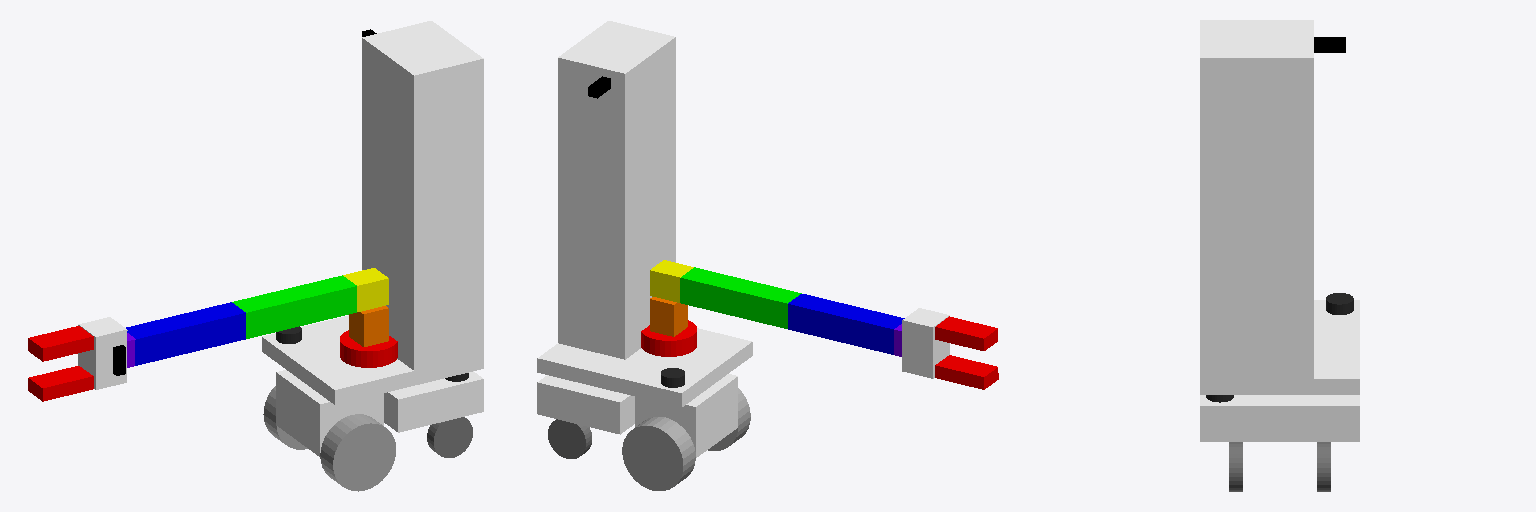
--- Render facts (derived) ---
3 views of the same robot in one strip: view 1: azimuth 30°, elevation 25°; view 2: azimuth 150°, elevation 25°; view 3: azimuth 270°, elevation 25° (orthographic).
Model mbse with 25 links and 24 joints (7 revolute, 4 continuous, 3 prismatic, 10 fixed), rooted at mobilebaseI, posed all joints at 0.
Links seen in each view (by area): view 1: Torsol, mobilebaseIV, Revlink3, Revlink4, Wheel_Left, mobilebaseI, mobilebaseII, Hand, FingerLeft, FingerRight, CasterWheel_Left, LinearJoint (+3 smaller); view 2: Torsol, mobilebaseIV, Revlink3, Revlink4, Wheel_Right, mobilebaseII, mobilebaseI, Hand, FingerRight, FingerLeft, CasterWheel_Right, LinearJoint (+3 smaller); view 3: Torsol, mobilebaseII, mobilebaseIV, CasterWheel_Left, CasterWheel_Right, Lidar_Front.
Link boxes in pixels (x1,y1,x2,y2): Torsol: (362,21,483,370); mobilebaseIV: (262,315,483,404); Revlink3: (232,275,356,338); Revlink4: (126,302,245,365); Wheel_Left: (320,414,395,491); mobilebaseI: (276,370,383,456); mobilebaseII: (384,371,483,432); Hand: (78,317,127,389); FingerLeft: (28,326,93,361); FingerRight: (28,366,93,401); CasterWheel_Left: (427,417,472,457); LinearJoint: (340,330,397,367); Torsol: (558,21,675,359); mobilebaseIV: (537,328,752,407); Revlink3: (680,267,801,328); Revlink4: (788,294,904,354); Wheel_Right: (622,417,695,490); mobilebaseII: (537,375,634,434); mobilebaseI: (635,374,737,457); Hand: (902,308,949,378); FingerRight: (935,355,998,389); FingerLeft: (935,316,997,350); CasterWheel_Right: (548,419,591,458); LinearJoint: (641,320,696,356); Torsol: (1200,20,1313,378); mobilebaseII: (1200,395,1359,441); mobilebaseIV: (1200,300,1359,394); CasterWheel_Left: (1229,442,1242,491); CasterWheel_Right: (1317,442,1330,491); Lidar_Front: (1326,293,1353,314).
Size in the robot's own frame: 1.34 by 0.4 by 1.22 metres.
Geometry: primitives only (box / cylinder / sphere), no mesh files.

robot.urdf — mbse:
<?xml version="1.0" encoding="UTF-8"?>
<!-- <?xml version="1.0"?> -->
<robot name="mbse">
    <link name="mobilebaseI">
        <visual name="mobilebaseI">
            <origin xyz="0.0 0.0 0.080" rpy="0.0 0.0 0.0" />
            <geometry name="mobilebaseI">
                <box size="0.200 0.240 0.160" />
            </geometry>
            <material name="white">
                <color rgba="1.0 1.0 1.0 1.0" />
            </material>
        </visual>
        <inertial>
            <mass value="2.0" />
            <inertia ixx="5.0" ixy="0.0" ixz="0.0" iyy="7.0" iyz="0.0" izz="6.0" />
        </inertial>
        <collision>
            <origin xyz="0.0 0.0 0.080" rpy="0.0 0.0 0.0" />
            <geometry name="mobilebaseI">
                <box size="0.200 0.240 0.160" />
            </geometry>
        </collision>
    </link>
    <link name="mobilebaseII">
        <visual name="mobilebaseII">
            <origin xyz="0.0 0.0 0.00" rpy="0.0 0.0 0.0" />
            <geometry name="mobilebaseII">
                <box size="0.270 0.400 0.100" />
            </geometry>
            <material name="white" />
        </visual>
        <inertial>
            <mass value="18.0" />
            <inertia ixx="8.0" ixy="0.0" ixz="0.0" iyy="2.0" iyz="0.0" izz="1.0" />
        </inertial>
        <collision>
            <origin xyz="0.0 0.0 0.00" rpy="0.0 0.0 0.0" />
            <geometry name="mobilebaseII">
                <box size="0.270 0.400 0.100" />
            </geometry>
        </collision>
    </link>
    <joint name="MobileBaseWheel" type="fixed">
        <origin xyz="0.235 0.0 0.110" rpy="0.0 0.0 0.0" />
        <parent link="mobilebaseI" />
        <child link="mobilebaseII" />
    </joint>
    <link name="Wheel_Right">
        <inertial>
            <mass value="1.5" />
            <inertia ixx="8.0" ixy="0.0" ixz="0.0" iyy="4.0" iyz="0.0" izz="4.0" />
        </inertial>
        <visual name="Wheel">
            <origin xyz="0.0 0.0 0.0" rpy="0.0 0.0 0.0" />
            <geometry name="wheel">
                <cylinder radius="0.100" length="0.070" />
            </geometry>
            <material name="Gray1">
                <color rgba="0.7 0.7 0.7 1.0" />
            </material>
        </visual>
        <collision>
            <origin xyz="0.0 0.0 0.0" rpy="0.0 0.0 0.0" />
            <geometry name="wheel">
                <cylinder radius="0.100" length="0.070" />
            </geometry>
        </collision>
    </link>
    <joint name="WheelR" type="continuous">
        <origin xyz="0.0 0.155 0.005" rpy="1.57 0.0 0.0" />
        <parent link="mobilebaseI" />
        <child link="Wheel_Right" />
        <axis xyz="0.0 0.0 1.0" />
        <limit effort="1000.0" velocity="10.0" />
    </joint>
    <link name="Wheel_Left">
        <inertial>
            <mass value="1.5" />
            <inertia ixx="8.0" ixy="0.0" ixz="0.0" iyy="4.0" iyz="0.0" izz="4.0" />
        </inertial>
        <visual name="Wheel">
            <origin xyz="0.0 0.0 0.0" rpy="0.0 0.0 0.0" />
            <geometry name="wheel">
                <cylinder radius="0.100" length="0.070" />
            </geometry>
            <material name="Gray1">
                <color rgba="0.7 0.7 0.7 1.0" />
            </material>
        </visual>
        <collision>
            <origin xyz="0.0 0.0 0.0" rpy="0.0 0.0 0.0" />
            <geometry name="wheel">
                <cylinder radius="0.100" length="0.070" />
            </geometry>
        </collision>
    </link>
    <joint name="WheelL" type="continuous">
        <origin xyz="0.0 -0.155 0.005" rpy="1.57 0.0 0.0" />
        <parent link="mobilebaseI" />
        <child link="Wheel_Left" />
        <axis xyz="0.0 0.0 1.0" />
        <limit effort="1000.0" velocity="10.0" />
    </joint>
    <link name="CasterCase_Left">
        <inertial>
            <mass value="0.06" />
            <inertia ixx="0.2" ixy="0.0" ixz="0.0" iyy="0.6" iyz="-0.7" izz="0.2" />
        </inertial>
        <visual name="CasterCase">
            <origin xyz="0.0 0.0 -0.005" rpy="0.0 0.0 0.0" />
            <geometry name="CasterC">
                <cylinder radius="0.025" length="0.010" />
            </geometry>
            <material name="Gray1">
                <color rgba="0.7 0.7 0.7 1.0" />
            </material>
        </visual>
        <collision>
            <origin xyz="0.0 0.0 -0.005" rpy="0.0 0.0 0.0" />
            <geometry name="CasterC">
                <cylinder radius="0.025" length="0.010" />
            </geometry>
        </collision>
    </link>
    <joint name="CasterCL" type="fixed">
        <origin xyz="0.040 -0.110 -0.05" rpy="0.0 0.0 0.0" />
        <parent link="mobilebaseII" />
        <child link="CasterCase_Left" />
        <axis xyz="0.0 0.0 1.0" />
    </joint>
    <link name="CasterWheel_Left">
        <inertial>
            <mass value="0.3" />
            <inertia ixx="0.6" ixy="0.0" ixz="0.0" iyy="0.3" iyz="0.0" izz="0.3" />
        </inertial>
        <visual name="CasterWheel">
            <origin xyz="0.0 0.0 0.0" rpy="0.0 0.0 0.0" />
            <geometry name="Casterwheel">
                <cylinder radius="0.0625" length="0.036" />
            </geometry>
            <material name="Gray2">
                <color rgba="0.5 0.5 0.5 1.0" />
            </material>
        </visual>
        <collision>
            <origin xyz="0.0 0.0 0.0" rpy="0.0 0.0 0.0" />
            <geometry name="Casterwheel">
                <cylinder radius="0.0625" length="0.036" />
            </geometry>
        </collision>
    </link>
    <joint name="CasterWheelL" type="continuous">
        <origin xyz="0.0405 0.0 -0.0925" rpy="1.57 0.0 0.0" />
        <parent link="CasterCase_Left" />
        <child link="CasterWheel_Left" />
        <axis xyz="0.0 0.0 1.0" />
    </joint>
    <link name="CasterCase_Right">
        <inertial>
            <mass value="0.06" />
            <inertia ixx="0.2" ixy="0.0" ixz="0.0" iyy="0.6" iyz="-0.7" izz="0.2" />
        </inertial>
        <visual name="CasterCase">
            <origin xyz="0.0 0.0 -0.005" rpy="0.0 0.0 0.0" />
            <geometry name="CasterC">
                <cylinder radius="0.025" length="0.010" />
            </geometry>
            <material name="Gray1">
                <color rgba="0.7 0.7 0.7 1.0" />
            </material>
        </visual>
        <collision>
            <origin xyz="0.0 0.0 -0.005" rpy="0.0 0.0 0.0" />
            <geometry name="CasterC">
                <cylinder radius="0.025" length="0.010" />
            </geometry>
        </collision>
    </link>
    <joint name="CasterCR" type="fixed">
        <origin xyz="0.040 0.110 -0.05" rpy="0.0 0.0 0.0" />
        <parent link="mobilebaseII" />
        <child link="CasterCase_Right" />
        <axis xyz="1.0 0.0 0.0" />
    </joint>
    <link name="CasterWheel_Right">
        <inertial>
            <mass value="0.3" />
            <inertia ixx="0.6" ixy="0.0" ixz="0.0" iyy="0.3" iyz="0.0" izz="0.3" />
        </inertial>
        <visual name="CasterWheel">
            <origin xyz="0.0 0.0 0.0" rpy="0.0 0.0 0.0" />
            <geometry name="Casterwheel">
                <cylinder radius="0.0625" length="0.036" />
            </geometry>
            <material name="Gray2">
                <color rgba="0.5 0.5 0.5 1.0" />
            </material>
        </visual>
        <collision>
            <origin xyz="0.0 0.0 0.0" rpy="0.0 0.0 0.0" />
            <geometry name="Casterwheel">
                <cylinder radius="0.0625" length="0.036" />
            </geometry>
        </collision>
    </link>
    <joint name="CasterWheelR" type="continuous">
        <origin xyz="0.0405 0.0 -0.0925" rpy="1.57 0.0 0.0" />
        <parent link="CasterCase_Right" />
        <child link="CasterWheel_Right" />
        <axis xyz="0.0 0.0 1.0" />
    </joint>
    <link name="mobilebaseIII">
        <inertial>
            <mass value="10.0" />
            <inertia ixx="0.6" ixy="0.0" ixz="0.0" iyy="0.1" iyz="0.0" izz="0.4" />
        </inertial>
        <visual name="mobilebaseIII">
            <origin xyz="0.0 0.0 0.0" rpy="0.0 0.0 0.0" />
            <geometry name="mobilebaseIII">
                <box size="0.235 0.180 0.030" />
            </geometry>
            <material name="white" />
        </visual>
        <collision>
            <origin xyz="0.0 0.0 0.0" rpy="0.0 0.0 0.0" />
            <geometry name="mobilebaseIII">
                <box size="0.235 0.180 0.030" />
            </geometry>
        </collision>
    </link>
    <joint name="MobileBaseLidar" type="fixed">
        <origin xyz="-0.100 0.0 0.065" rpy="0.0 0.0 0.0" />
        <parent link="mobilebaseII" />
        <child link="mobilebaseIII" />
        <axis xyz="0.0 0.0 1.0" />
    </joint>
    <link name="mobilebaseIV">
        <inertial>
            <mass value="1.0" />
            <inertia ixx="0.2" ixy="0.0" ixz="0.0" iyy="0.3" iyz="0.0" izz="0.1" />
        </inertial>
        <visual name="mobilebaseIII">
            <origin xyz="0.0 0.0 0.0" rpy="0.0 0.0 0.0" />
            <geometry name="mobilebaseIV">
                <box size="0.470 0.400 0.045" />
            </geometry>
            <material name="white" />
        </visual>
        <collision>
            <origin xyz="0.0 0.0 0.0" rpy="0.0 0.0 0.0" />
            <geometry name="mobilebaseIV">
                <box size="0.470 0.400 0.045" />
            </geometry>
        </collision>
    </link>
    <joint name="MobileBaseTorsol" type="fixed">
        <origin xyz="0.0 0.0 0.0375" rpy="0.0 0.0 0.0" />
        <parent link="mobilebaseIII" />
        <child link="mobilebaseIV" />
    </joint>
    <link name="Lidar_Front">
        <inertial>
            <mass value="0.3" />
            <inertia ixx="0.4" ixy="0.0" ixz="0.0" iyy="0.7" iyz="0.0" izz="0.4" />
        </inertial>
        <visual name="Lidar_Front">
            <origin xyz="0.0 0.0 0.0" rpy="0.0 0.0 0.0" />
            <geometry name="Lidar_front">
                <cylinder radius="0.035" length="0.030" />
            </geometry>
            <material name="Gray4">
                <color rgba="0.2 0.2 0.2 1.0" />
            </material>
        </visual>
        <collision>
            <origin xyz="0.0 0.0 0.0" rpy="0.0 0.0 0.0" />
            <geometry name="Lidar_front">
                <cylinder radius="0.035" length="0.030" />
            </geometry>
        </collision>
    </link>
    <joint name="LidarF" type="fixed">
        <origin xyz="-0.178 0.150 0.075" rpy="0.0 0.0 3.15159" />
        <parent link="mobilebaseIII" />
        <child link="Lidar_Front" />
        <axis xyz="1.0 0.0 0.0" />
    </joint>
    <link name="Lidar_Back">
        <inertial>
            <mass value="0.3" />
            <inertia ixx="0.4" ixy="0.0" ixz="0.0" iyy="0.7" iyz="0.0" izz="0.4" />
        </inertial>
        <visual name="Lidar_Back">
            <origin xyz="0.0 0.0 0.0" rpy="0.0 0.0 0.0" />
            <geometry name="Lidar_back">
                <cylinder radius="0.035" length="0.030" />
            </geometry>
            <material name="Gray4">
                <color rgba="0.2 0.2 0.2 1.0" />
            </material>
        </visual>
        <collision>
            <origin xyz="0.0 0.0 0.0" rpy="0.0 0.0 0.0" />
            <geometry name="Lidar_back">
                <cylinder radius="0.035" length="0.030" />
            </geometry>
        </collision>
    </link>
    <joint name="LidarB" type="fixed">
        <origin xyz="0.178 -0.150 0.0" rpy="0.0 0.0 0.0" />
        <parent link="mobilebaseIII" />
        <child link="Lidar_Back" />
    </joint>
    <link name="Torsol">
        <inertial>
            <mass value="0.8" />
            <inertia ixx="7.0" ixy="5.0" ixz="8.0" iyy="4.0" iyz="4.0" izz="7.0" />
        </inertial>
        <visual name="Body">
            <origin xyz="0.0 0.0 0.445" rpy="0.0 0.0 0.0" />
            <geometry name="body">
                <box size="0.220 0.285 0.890" />
            </geometry>
            <material name="white" />
        </visual>
        <collision>
            <origin xyz="0.0 0.0 0.445" rpy="0.0 0.0 0.0" />
            <geometry name="body">
                <box size="0.220 0.285 0.890" />
            </geometry>
        </collision>
    </link>
    <joint name="BaseTorsol" type="fixed">
        <origin xyz="0.125 -0.0575 0.0225" rpy="0.0 0.0 0.0" />
        <parent link="mobilebaseIV" />
        <child link="Torsol" />
    </joint>
    <link name="TorsolCamera">
        <inertial>
            <origin xyz="0.0 1.0 0.0" rpy="0.0 0.0 0.0" />
            <mass value="0.2" />
            <inertia ixx="0.6" ixy="0.0" ixz="0.0" iyy="0.1" iyz="0.0" izz="0.1" />
        </inertial>
        <visual>
            <origin xyz="0.0 0.0 0.0" rpy="0.0 0.0 0.0" />
            <geometry name="Camera">
                <box size="0.03 0.08 0.03" />
            </geometry>
            <material name="black">
                <color rgba="0.0 0.0 0.0 0.5" />
            </material>
        </visual>
        <collision>
            <origin xyz="0.0 0.0 0.0" rpy="0.0 0.0 0.0" />
            <geometry name="Camera">
                <box size="0.03 0.08 0.03" />
            </geometry>
        </collision>
    </link>
    <joint name="BodyCam" type="revolute">
        <origin xyz="-0.05 0.182 0.85" rpy="0.0 0.0 3.15159" />
        <parent link="Torsol" />
        <child link="TorsolCamera" />
        <axis xyz="0.0 1.0 0.0" />
        <limit effort="1000.0" lower="-1.5" upper="1.5" velocity="0.5" />
    </joint>
    <link name="LinearJoint">
        <inertial>
            <mass value="0.5" />
            <inertia ixx="7.0" ixy="-5.0" ixz="8.0" iyy="4.0" iyz="4.0" izz="7.0" />
        </inertial>
        <visual>
            <origin xyz="0.0 0.0 0.0" rpy="0.0 0.0 0.0" />
            <geometry name="LinearJ">
                <cylinder radius="0.080" length="0.050" />
            </geometry>
            <material name="Red">
                <color rgba="1.0 0.0 0.0 1.0" />
            </material>
        </visual>
        <collision>
            <origin xyz="0.0 0.0 0.0" rpy="0.0 0.0 0.0" />
            <geometry name="LinearJ">
                <cylinder radius="0.080" length="0.050" />
            </geometry>
        </collision>
    </link>
    <joint name="LinJ" type="prismatic">
        <origin xyz="-0.17 0.0 0.0275" rpy="0.0 0.0 0.0" />
        <parent link="Torsol" />
        <child link="LinearJoint" />
        <axis xyz="0.0 0.0 1.0" />
        <limit lower="0.0" upper="0.650" effort="1000.0" velocity="10.0" />
    </joint>
    <link name="Revlink1">
        <inertial>
            <mass value="0.1" />
            <inertia ixx="0.4" ixy="0.0" ixz="0.0" iyy="0.4" iyz="0.7" izz="0.1" />
        </inertial>
        <visual>
            <origin xyz="0.0 0.0 -0.050" rpy="0.0 0.0 0.0" />
            <geometry name="RevL1">
                <box size="0.080 0.080 0.100" />
            </geometry>
            <material name="Orange">
                <color rgba="1.0 0.5 0.0 1.0" />
            </material>
        </visual>
        <collision>
            <origin xyz="0.0 0.0 -0.050" rpy="0.0 0.0 0.0" />
            <geometry name="RevL1">
                <box size="0.080 0.080 0.100" />
            </geometry>
        </collision>
    </link>
    <joint name="RevJ1" type="revolute">
        <origin xyz="0.0 0.0 0.125" rpy="0.0 0.0 3.14" />
        <parent link="LinearJoint" />
        <child link="Revlink1" />
        <axis xyz="0.0 0.0 1.0" />
        <limit effort="1000.0" lower="-1.3" upper="1.3" velocity="0.5" />
    </joint>
    <link name="Revlink2">
        <inertial>
            <mass value="0.1" />
            <inertia ixx="0.9" ixy="0.0" ixz="0.0" iyy="0.4" iyz="0.0" izz="0.9" />
        </inertial>
        <visual>
            <origin xyz="0.0 0.0 -0.050" rpy="0.0 0.0 0.0" />
            <geometry name="RevL2">
                <box size="0.080 0.080 0.100" />
            </geometry>
            <material name="Yellow">
                <color rgba="1.0 1.0 0.0 1.0" />
            </material>
        </visual>
        <collision>
            <origin xyz="0.0 0.0 -0.050" rpy="0.0 0.0 0.0" />
            <geometry name="RevL2">
                <box size="0.080 0.080 0.100" />
            </geometry>
        </collision>
    </link>
    <joint name="RevJ2" type="revolute">
        <origin xyz="0.06 0.0 0.05" rpy="0.0 1.57 0.0" />
        <parent link="Revlink1" />
        <child link="Revlink2" />
        <axis xyz="0.0 0.0 1.0" />
        <limit effort="1000.0" lower="-1.5" upper="1.5" velocity="0.5" />
    </joint>
    <link name="Revlink3">
        <inertial>
            <mass value="0.1" />
            <inertia ixx="0.9" ixy="0.0" ixz="0.0" iyy="0.1" iyz="0.5" izz="0.8" />
        </inertial>
        <visual>
            <origin xyz="-0.175 0.0 0.0" rpy="0.0 1.57 0.0" />
            <geometry name="RevL3">
                <box size="0.080 0.080 0.350" />
            </geometry>
            <material name="Green">
                <color rgba="0.0 1.0 0.0 1.0" />
            </material>
        </visual>
        <collision>
            <origin xyz="-0.175 0.0 0.0" rpy="0.0 1.57 0.0" />
            <geometry name="RevL3">
                <box size="0.080 0.080 0.350" />
            </geometry>
        </collision>
    </link>
    <joint name="RevJ3" type="revolute">
        <origin xyz="0.0 0.0 0.0" rpy="1.57 1.57 0.0" />
        <parent link="Revlink2" />
        <child link="Revlink3" />
        <axis xyz="0.0 0.0 1.0" />
        <limit effort="1000.0" lower="-1.2" upper="2.0" velocity="0.5" />
    </joint>
    <link name="Revlink4">
        <inertial>
            <mass value="0.1" />
            <inertia ixx="0.9" ixy="0.0" ixz="0.0" iyy="0.1" iyz="0.5" izz="0.8" />
        </inertial>
        <visual>
            <origin xyz="-0.175 0.0 0.0" rpy="0.0 1.57 0.0" />
            <geometry name="RevL4">
                <box size="0.080 0.080 0.350" />
            </geometry>
            <material name="Blue">
                <color rgba="0.0 0.0 1.0 1.0" />
            </material>
        </visual>
        <collision>
            <origin xyz="-0.175 0.0 0.0" rpy="0.0 1.57 0.0" />
            <geometry name="RevL4">
                <box size="0.080 0.080 0.350" />
            </geometry>
        </collision>
    </link>
    <joint name="RevJ4" type="revolute">
        <origin xyz="-0.350 0.0 0.0" rpy="0.0 0.0 0.0" />
        <parent link="Revlink3" />
        <child link="Revlink4" />
        <axis xyz="0.0 0.0 1.0" />
        <limit effort="1000.0" lower="-1.9" upper="1.9" velocity="0.5" />
    </joint>
    <link name="Revlink5">
        <inertial>
            <mass value="0.1" />
            <inertia ixx="0.1" ixy="0.0" ixz="0.0" iyy="0.1" iyz="0.0" izz="0.1" />
        </inertial>
        <visual>
            <origin xyz="-0.04 0.0 0.0" rpy="0.0 1.57 0.0" />
            <geometry name="RevL5">
                <box size="0.080 0.080 0.050" />
            </geometry>
            <material name="Purple">
                <color rgba="0.5 0.0 1.0 1.0" />
            </material>
        </visual>
        <collision>
            <origin xyz="-0.04 0.0 0.0" rpy="0.0 1.57 0.0" />
            <geometry name="RevL5">
                <box size="0.080 0.080 0.050" />
            </geometry>
        </collision>
    </link>
    <joint name="RevJ5" type="revolute">
        <origin xyz="-0.331 0.0 -0.0" rpy="0.0 0.0 0.0" />
        <parent link="Revlink4" />
        <child link="Revlink5" />
        <axis xyz="0.0 0.0 1.0" />
        <limit effort="1000.0" lower="-3.14" upper="3.14" velocity="0.5" />
    </joint>
    <link name="Hand">
        <inertial>
            <mass value="0.05" />
            <inertia ixx="0.4" ixy="0.0" ixz="0.0" iyy="0.4" iyz="0.0" izz="0.4" />
        </inertial>
        <visual>
            <origin xyz="-0.0 0.0 0.0475" rpy="0.0 1.57 0.0" />
            <geometry name="Hand">
                <box size="0.100 0.160 0.095" />
            </geometry>
            <material name="white" />
        </visual>
        <collision>
            <origin xyz="-0.0 0.0 0.0475" rpy="0.0 1.57 0.0" />
            <geometry name="Hand">
                <box size="0.100 0.160 0.095" />
            </geometry>
        </collision>
    </link>
    <joint name="HandGripper" type="revolute">
        <origin xyz="-0.05 -0.0 -0.0" rpy="0.0 -1.57 0.0" />
        <parent link="Revlink5" />
        <child link="Hand" />
        <axis xyz="0.0 0.0 1.0" />
        <limit effort="1000.0" lower="-3.14" upper="3.14" velocity="0.5" />
    </joint>
    <link name="FingerLeft">
        <inertial>
            <mass value="0.05" />
            <inertia ixx="0.5" ixy="0.0" ixz="0.0" iyy="0.4" iyz="0.0" izz="0.5" />
        </inertial>
        <visual>
            <origin xyz="-0.080 0.0 0.0" rpy="0.0 0.0 0.0" />
            <geometry name="FingerL">
                <box size="0.160 0.040 0.080" />
            </geometry>
            <material name="Red" />
        </visual>
        <collision>
            <origin xyz="-0.080 0.0 0.0" rpy="0.0 0.0 0.0" />
            <geometry name="FingerL">
                <box size="0.160 0.040 0.080" />
            </geometry>
        </collision>
    </link>
    <joint name="FingerL" type="prismatic">
        <origin xyz="-0.0 -0.06 0.1" rpy="0.0 1.57 0.0" />
        <parent link="Hand" />
        <child link="FingerLeft" />
        <axis xyz="0.0 1.0 0.0" />
        <limit effort="1000.0" lower="-0.025" upper="0.04" velocity="0.5" />
    </joint>
    <link name="FingerRight">
        <inertial>
            <mass value="0.05" />
            <inertia ixx="0.5" ixy="0.0" ixz="0.0" iyy="0.4" iyz="0.0" izz="0.5" />
        </inertial>
        <visual>
            <origin xyz="-0.080 0.0 0.0" rpy="0.0 0.0 0.0" />
            <geometry name="FingerR">
                <box size="0.160 0.040 0.080" />
            </geometry>
            <material name="Red" />
        </visual>
        <collision>
            <origin xyz="-0.080 0.0 0.0" rpy="0.0 0.0 0.0" />
            <geometry name="FingerR">
                <box size="0.160 0.040 0.080" />
            </geometry>
        </collision>
    </link>
    <joint name="FingerR" type="prismatic">
        <origin xyz="-0.0 0.06 0.1" rpy="0.0 1.57 0.0" />
        <parent link="Hand" />
        <child link="FingerRight" />
        <axis xyz="0.0 1.0 0.0" />
        <limit effort="1000.0" lower="-0.04" upper="0.025" velocity="0.5" />
    </joint>
    
    <link name="TipPoint"/>
    <joint name="FixedTipJoint" type="fixed">
        <origin xyz="0.0 0.0 0.260" rpy="0.0 0.0 1.570796" />
        <parent link="Hand" />
        <child link="TipPoint" />
    </joint>

    <link name="HandCamera">
        <inertial>
            <mass value="0.2" />
            <inertia ixx="0.6" ixy="0.0" ixz="0.0" iyy="0.1" iyz="0.0" izz="0.1" />
        </inertial>
        <visual name="Camera">
            <origin xyz="0.0 0.0 0.0" rpy="0.0 0.0 0.0" />
            <geometry name="Camera">
                <box size="0.02 0.08 0.03" />
            </geometry>
            <material name="black">
                <color rgba="0.0 0.0 0.0 0.5" />
            </material>
        </visual>
        <collision>
            <origin xyz="0.0 0.0 0.0" rpy="0.0 0.0 0.0" />
            <geometry name="Camera">
                <box size="0.02 0.08 0.03" />
            </geometry>
        </collision>
    </link>
    <joint name="HandCam" type="fixed">
        <origin xyz="-0.0625 0.0 0.03" rpy="0.0 0.0 0.0" />
        <parent link="Hand" />
        <child link="HandCamera" />
    </joint>
    <transmission name="trans_BodyCam">
        <type>transmission_interface/SimpleTransmission</type>
        <joint name="BodyCam">
            <hardwareInterface>hardware_interface/PositionJointInterface</hardwareInterface>
        </joint>
        <actuator name="BodyCam_motor">
            <hardwareInterface>hardware_interface/PositionJointInterface</hardwareInterface>
            <mechanicalReduction>1</mechanicalReduction>
        </actuator>
    </transmission>
    <transmission name="trans_LinJ">
        <type>transmission_interface/SimpleTransmission</type>
        <joint name="LinJ">
            <hardwareInterface>hardware_interface/PositionJointInterface</hardwareInterface>
        </joint>
        <actuator name="LinJ_motor">
            <hardwareInterface>hardware_interface/PositionJointInterface</hardwareInterface>
            <mechanicalReduction>1</mechanicalReduction>
        </actuator>
    </transmission>
    <transmission name="trans_RevJ1">
        <type>transmission_interface/SimpleTransmission</type>
        <joint name="RevJ1">
            <hardwareInterface>hardware_interface/PositionJointInterface</hardwareInterface>
        </joint>
        <actuator name="RevJ1_motor">
            <hardwareInterface>hardware_interface/PositionJointInterface</hardwareInterface>
            <mechanicalReduction>1</mechanicalReduction>
        </actuator>
    </transmission>
    <transmission name="trans_RevJ2">
        <type>transmission_interface/SimpleTransmission</type>
        <joint name="RevJ2">
            <hardwareInterface>hardware_interface/PositionJointInterface</hardwareInterface>
        </joint>
        <actuator name="RevJ2_motor">
            <hardwareInterface>hardware_interface/PositionJointInterface</hardwareInterface>
            <mechanicalReduction>1</mechanicalReduction>
        </actuator>
    </transmission>
    <transmission name="trans_RevJ3">
        <type>transmission_interface/SimpleTransmission</type>
        <joint name="RevJ3">
            <hardwareInterface>hardware_interface/PositionJointInterface</hardwareInterface>
        </joint>
        <actuator name="RevJ3_motor">
            <hardwareInterface>hardware_interface/PositionJointInterface</hardwareInterface>
            <mechanicalReduction>1</mechanicalReduction>
        </actuator>
    </transmission>
    <transmission name="trans_RevJ4">
        <type>transmission_interface/SimpleTransmission</type>
        <joint name="RevJ4">
            <hardwareInterface>hardware_interface/PositionJointInterface</hardwareInterface>
        </joint>
        <actuator name="RevJ4_motor">
            <hardwareInterface>hardware_interface/PositionJointInterface</hardwareInterface>
            <mechanicalReduction>1</mechanicalReduction>
        </actuator>
    </transmission>
    <transmission name="trans_RevJ5">
        <type>transmission_interface/SimpleTransmission</type>
        <joint name="RevJ5">
            <hardwareInterface>hardware_interface/PositionJointInterface</hardwareInterface>
        </joint>
        <actuator name="RevJ5_motor">
            <hardwareInterface>hardware_interface/PositionJointInterface</hardwareInterface>
            <mechanicalReduction>1</mechanicalReduction>
        </actuator>
    </transmission>
    <transmission name="trans_HandGripper">
        <type>transmission_interface/SimpleTransmission</type>
        <joint name="HandGripper">
            <hardwareInterface>hardware_interface/PositionJointInterface</hardwareInterface>
        </joint>
        <actuator name="HandGripper_motor">
            <hardwareInterface>hardware_interface/PositionJointInterface</hardwareInterface>
            <mechanicalReduction>1</mechanicalReduction>
        </actuator>
    </transmission>
    <transmission name="trans_FingerL">
        <type>transmission_interface/SimpleTransmission</type>
        <joint name="FingerL">
            <hardwareInterface>hardware_interface/PositionJointInterface</hardwareInterface>
        </joint>
        <actuator name="FingerL_motor">
            <hardwareInterface>hardware_interface/PositionJointInterface</hardwareInterface>
            <mechanicalReduction>1</mechanicalReduction>
        </actuator>
    </transmission>
    <transmission name="trans_FingerR">
        <type>transmission_interface/SimpleTransmission</type>
        <joint name="FingerR">
            <hardwareInterface>hardware_interface/PositionJointInterface</hardwareInterface>
        </joint>
        <actuator name="FingerR_motor">
            <hardwareInterface>hardware_interface/PositionJointInterface</hardwareInterface>
            <mechanicalReduction>1</mechanicalReduction>
        </actuator>
    </transmission>
    <gazebo>
        <plugin name="gazebo_ros_control" filename="libgazebo_ros_control.so">
            <robotNamespace>/</robotNamespace>
        </plugin>
    </gazebo>
</robot>
